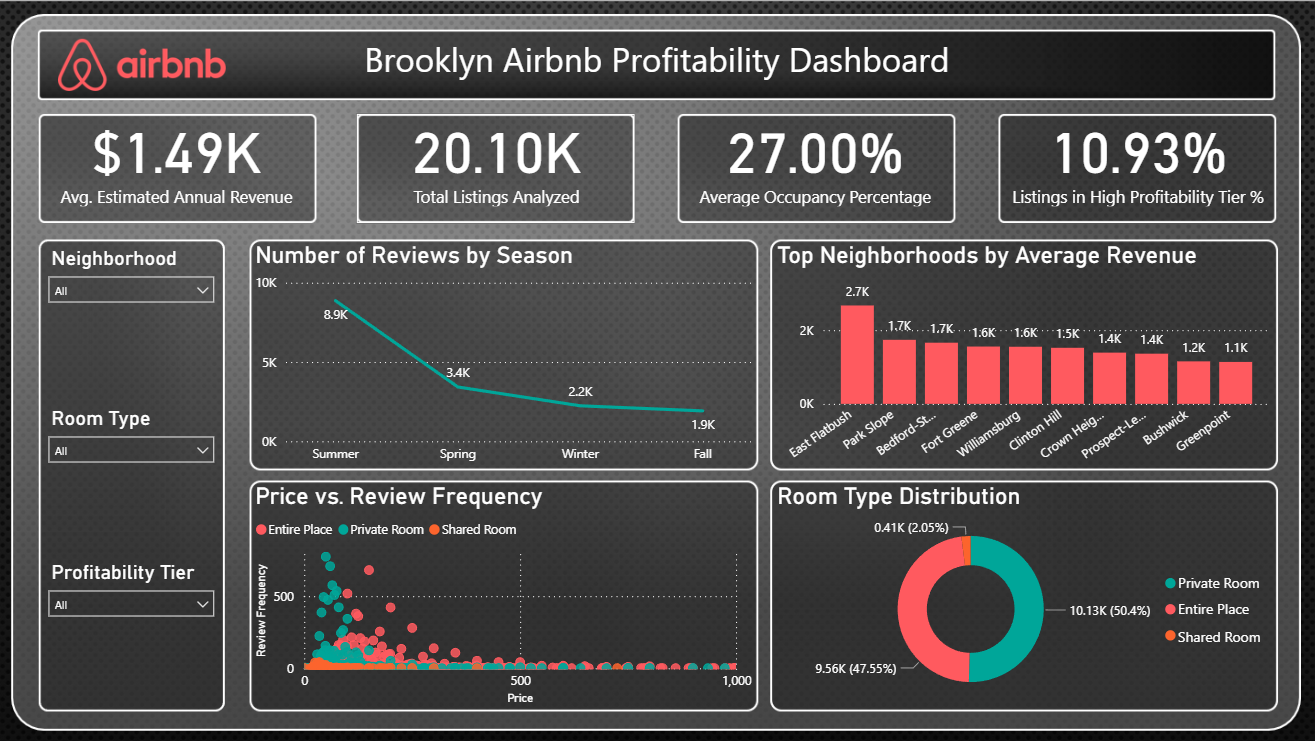

Layout of this report page (visuals, bound fields, positions):
{"tool":"powerbi","page":{"name":"Main","canvas":[1280,720],"ordinal":0},"visuals":[{"type":"image","box":[0,0,1280,720.1],"z":0},{"type":"textbox","box":[47,32.6,1187,69],"z":1000},{"type":"card","fields":{"Values":["Avg(view_gold_ab_nyc_2019_clean_brooklyn.estimated_annual_revenue)"]},"box":[47,101.6,265.6,104.5],"z":2000},{"type":"card","fields":{"Values":["Count(view_gold_ab_nyc_2019_clean_brooklyn.id)"]},"box":[353.8,101.6,265.6,104.5],"z":3000},{"type":"card","fields":{"Values":["view_gold_ab_nyc_2019_clean_brooklyn.Average Occupancy Percentage"]},"box":[657.7,101.6,269.4,104.5],"z":4000},{"type":"card","fields":{"Values":["view_gold_ab_nyc_2019_clean_brooklyn.Listings in High Profitability Tier Percentage"]},"box":[969.3,101.6,264.6,104.5],"z":5000},{"type":"clusteredColumnChart","title":"Top Neighborhoods by Average Revenue","fields":{"Y":["Avg(view_gold_ab_nyc_2019_clean_brooklyn.estimated_annual_revenue)"],"Category":["view_gold_ab_nyc_2019_clean_brooklyn.neighbourhood"]},"box":[750.7,234.9,483.2,222.4],"z":6000},{"type":"scatterChart","title":"Price vs. Review Frequency","fields":{"X":["view_gold_ab_nyc_2019_clean_brooklyn.price"],"Y":["CountNonNull(view_gold_ab_nyc_2019_clean_brooklyn.reviews_per_month)"],"Series":["view_gold_ab_nyc_2019_clean_brooklyn.room_type"]},"box":[250.2,466,486.1,217.6],"z":7000},{"type":"donutChart","title":"Room Type Distribution","fields":{"Category":["view_gold_ab_nyc_2019_clean_brooklyn.room_type"],"Y":["CountNonNull(view_gold_ab_nyc_2019_clean_brooklyn.id)"]},"box":[750.7,466,483.2,217.6],"z":8000},{"type":"slicer","fields":{"Values":["view_gold_ab_nyc_2019_clean_brooklyn.neighbourhood"]},"box":[47,234.9,179.3,153],"z":9000},{"type":"slicer","fields":{"Values":["view_gold_ab_nyc_2019_clean_brooklyn.room_type"]},"box":[47,388.3,179.3,147.7],"z":10000},{"type":"slicer","fields":{"Values":["view_gold_ab_nyc_2019_clean_brooklyn.profitability_tier"]},"box":[47,536,179.3,147.7],"z":11000},{"type":"lineChart","title":"Number of Reviews by Season","fields":{"Category":["view_gold_ab_nyc_2019_clean_brooklyn.season"],"Y":["CountNonNull(view_gold_ab_nyc_2019_clean_brooklyn.last_review)"]},"box":[250.2,234.9,486.1,222.4],"z":12000}]}

Visuals, with their boxes in screenshot pixels (x1, y1, x2, y2), scaled from the page's 1280x720 canvas onto the 1315x741 screenshot:
image: x1=0, y1=0, x2=1314, y2=740
textbox: x1=48, y1=34, x2=1268, y2=105
card - Avg(view_gold_ab_nyc_2019_clean_brooklyn.estimated_annual_revenue): x1=48, y1=105, x2=321, y2=212
card - Count(view_gold_ab_nyc_2019_clean_brooklyn.id): x1=363, y1=105, x2=636, y2=212
card - view_gold_ab_nyc_2019_clean_brooklyn.Average Occupancy Percentage: x1=676, y1=105, x2=952, y2=212
card - view_gold_ab_nyc_2019_clean_brooklyn.Listings in High Profitability Tier Percentage: x1=996, y1=105, x2=1268, y2=212
"Top Neighborhoods by Average Revenue" clusteredColumnChart: x1=771, y1=242, x2=1268, y2=471
"Price vs. Review Frequency" scatterChart: x1=257, y1=480, x2=756, y2=704
"Room Type Distribution" donutChart: x1=771, y1=480, x2=1268, y2=704
slicer - view_gold_ab_nyc_2019_clean_brooklyn.neighbourhood: x1=48, y1=242, x2=232, y2=399
slicer - view_gold_ab_nyc_2019_clean_brooklyn.room_type: x1=48, y1=400, x2=232, y2=552
slicer - view_gold_ab_nyc_2019_clean_brooklyn.profitability_tier: x1=48, y1=552, x2=232, y2=704
"Number of Reviews by Season" lineChart: x1=257, y1=242, x2=756, y2=471
